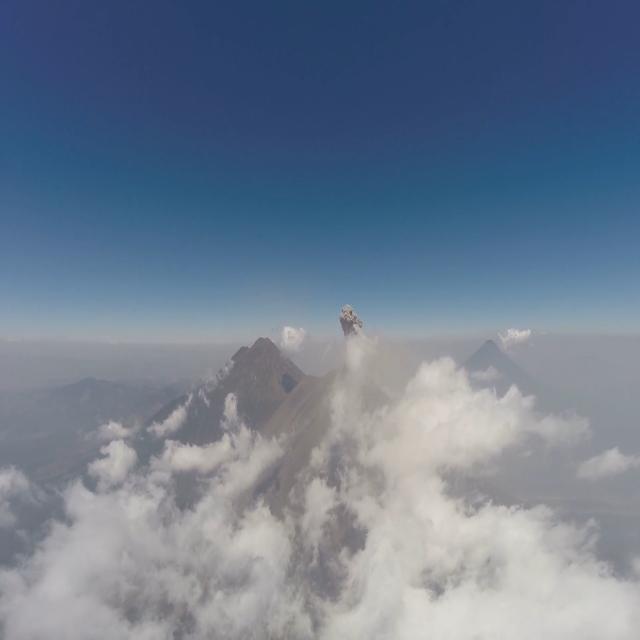Plume: (338, 301, 364, 340)
